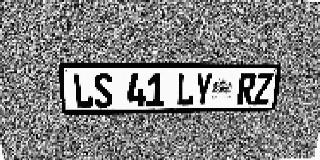1: (146, 73, 165, 107)
4: (127, 73, 146, 107)
L: (72, 73, 94, 108), (176, 73, 195, 106)
R: (237, 73, 257, 105)
S: (93, 73, 113, 108)
Y: (194, 73, 213, 106)
Z: (253, 73, 273, 105)
